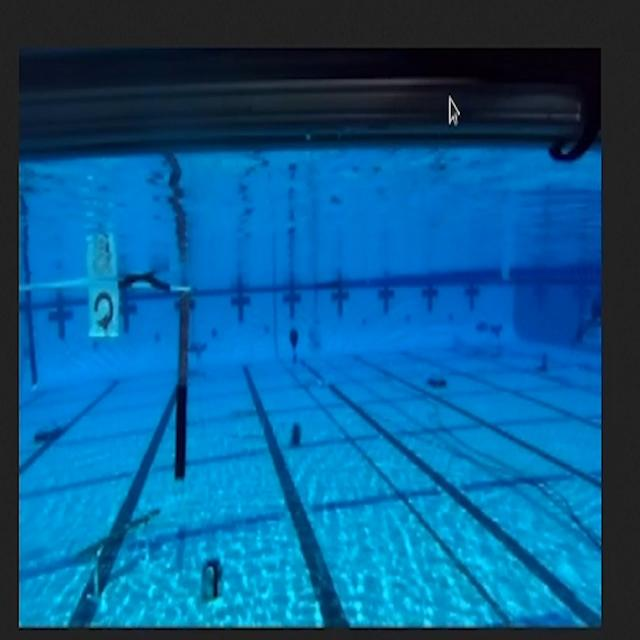Gate: (25, 272, 193, 481)
